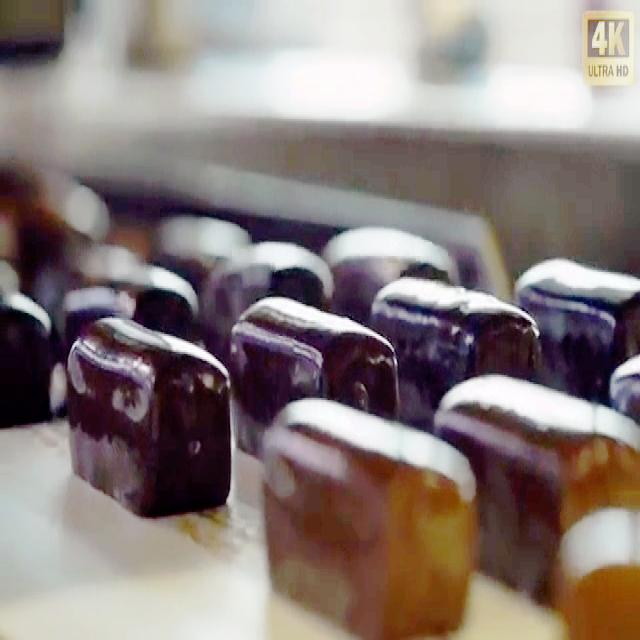Choco: (258, 391, 478, 633), (433, 354, 640, 596), (64, 310, 233, 518), (228, 290, 400, 458), (373, 270, 555, 420), (516, 240, 638, 393)
